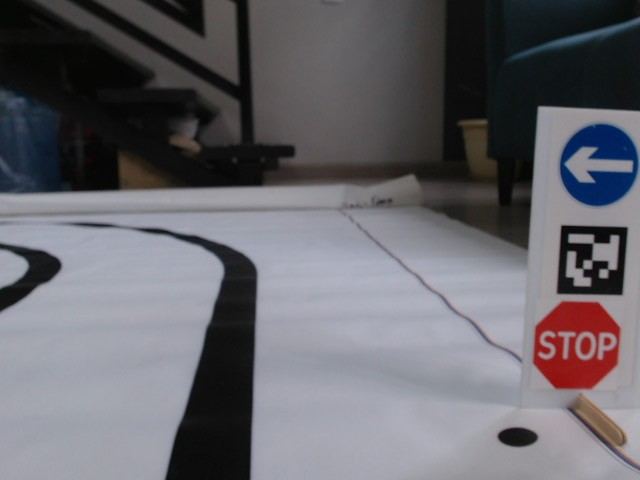Stop: (532, 303, 623, 389)
